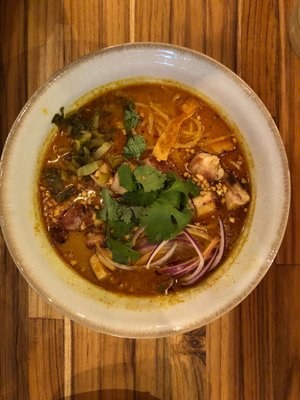sushi: (1, 43, 292, 382)
